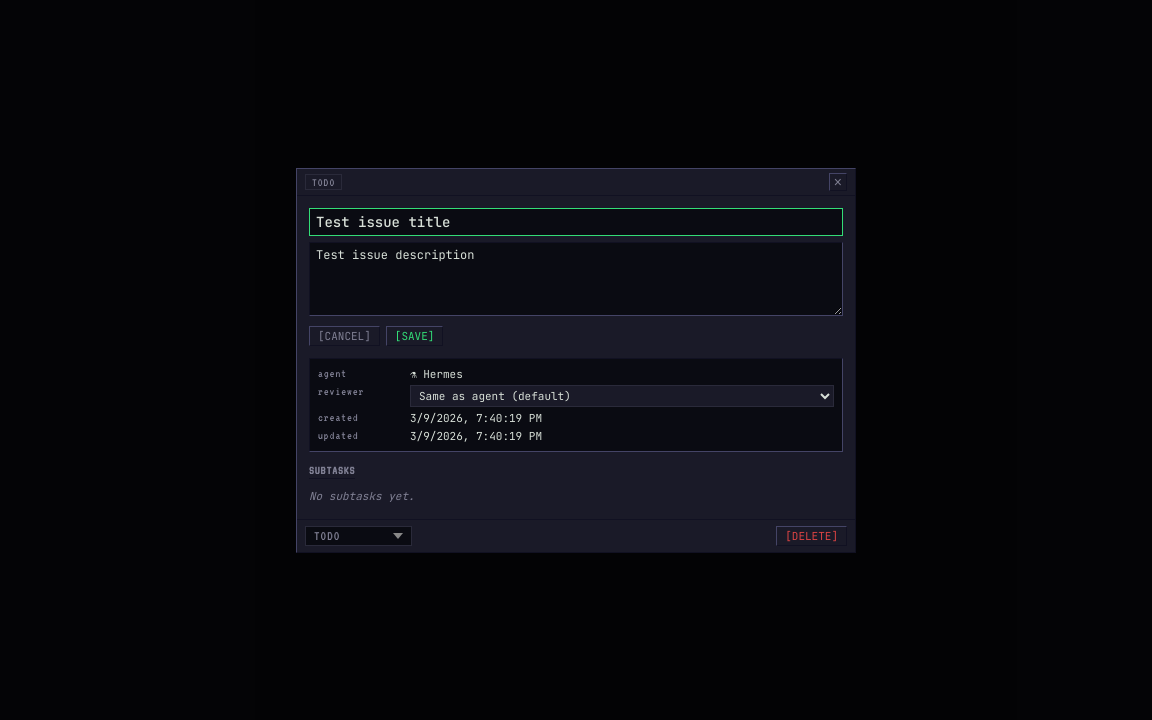
IssueDetail › cancel restores original values and exits edit mode
Replace the text in the field showing "Test issue title" with "Changed title". click: (576, 222)
box: [309,208,843,236]
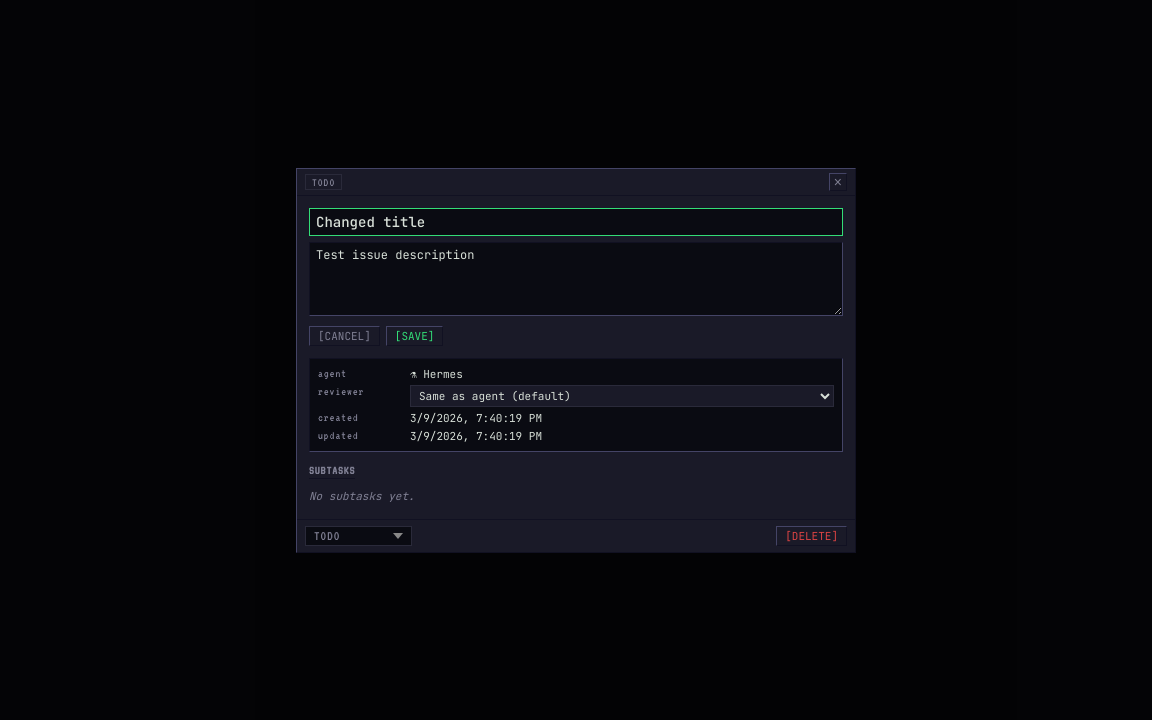
Click the button "[CANCEL]". click: (344, 336)
box: [309,326,380,346]
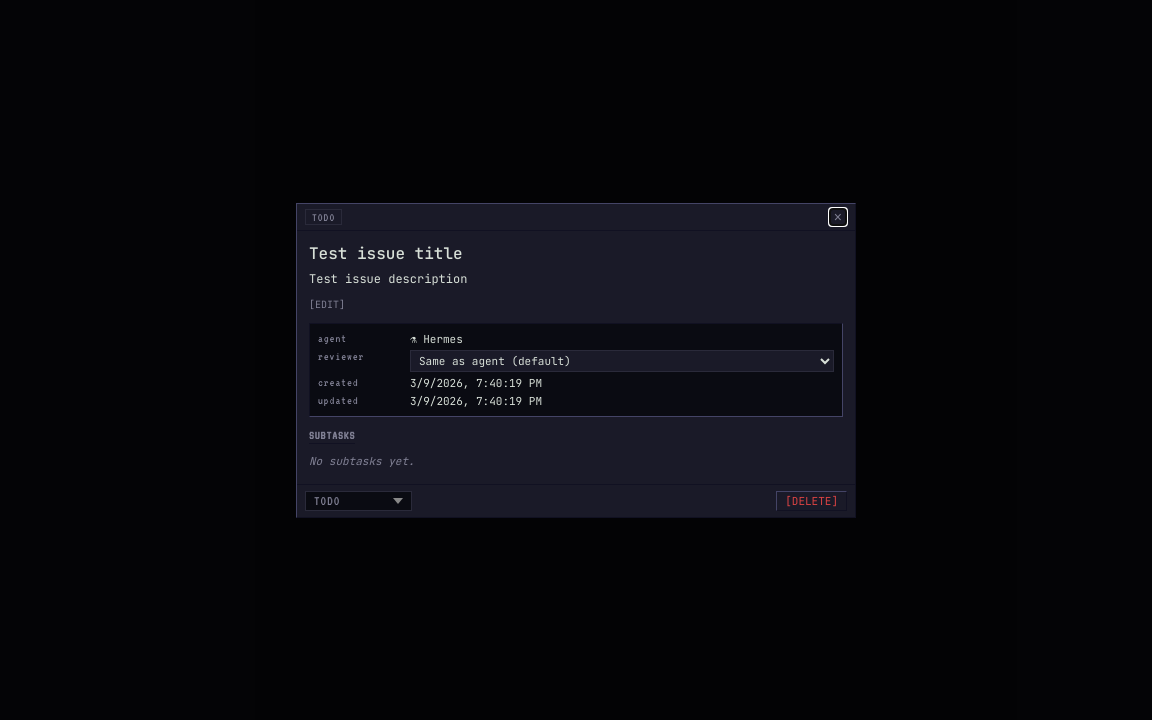
Expected: the heading "Test issue title" is shown, [309,242,463,264]
Expected: the button "[EDIT]" is shown, [309,298,345,310]
